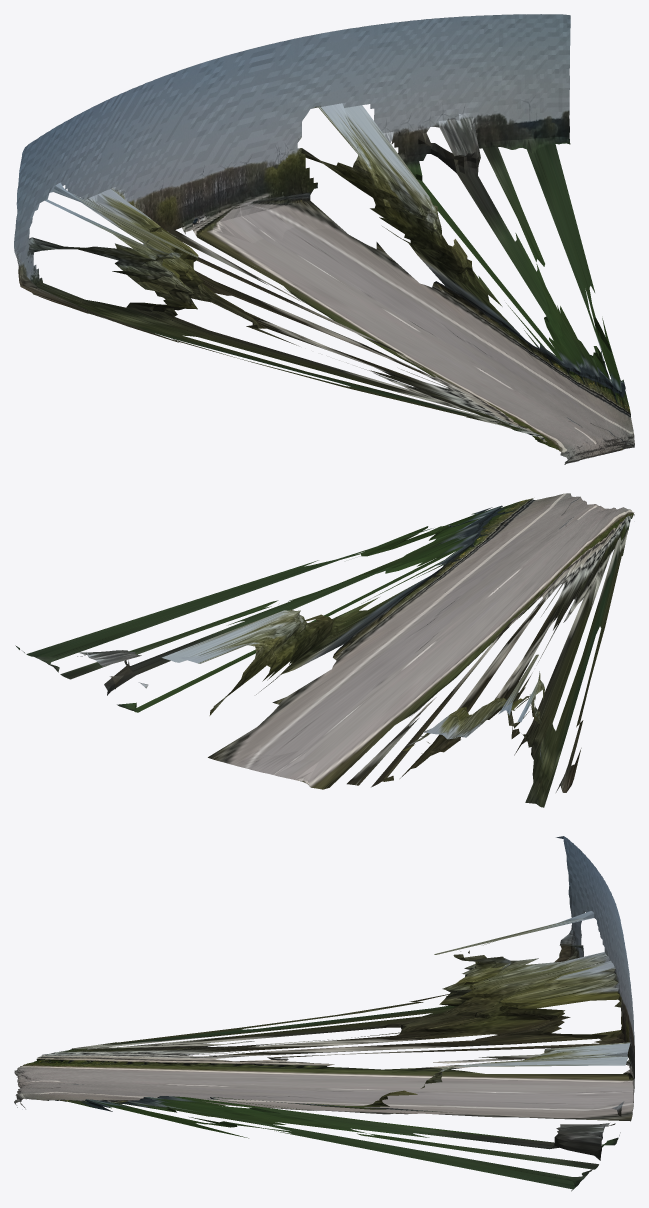
3 views of the same model, one above another, from view 1: azimuth 30°, elevation 25°; view 2: azimuth 150°, elevation 25°; view 3: azimuth 270°, elevation 25° (orthographic). The views are drawn at different scales.
Parts seen in each view (by area): view 1: defaultobject; view 2: defaultobject; view 3: defaultobject.
Boxes of the visible parts, box(x1,y1,x2,y2) form: defaultobject: box(14, 14, 634, 464); defaultobject: box(15, 493, 634, 807); defaultobject: box(14, 836, 634, 1191).
Bounding box in the file's own units: 41.12 × 12.46 × 44.25.
Materials: 1 (1 with a texture image).
